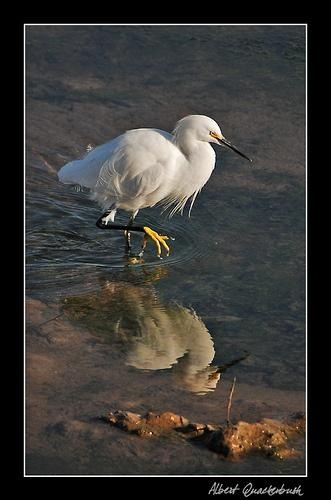bird: (56, 115, 254, 263), (60, 279, 252, 397)
